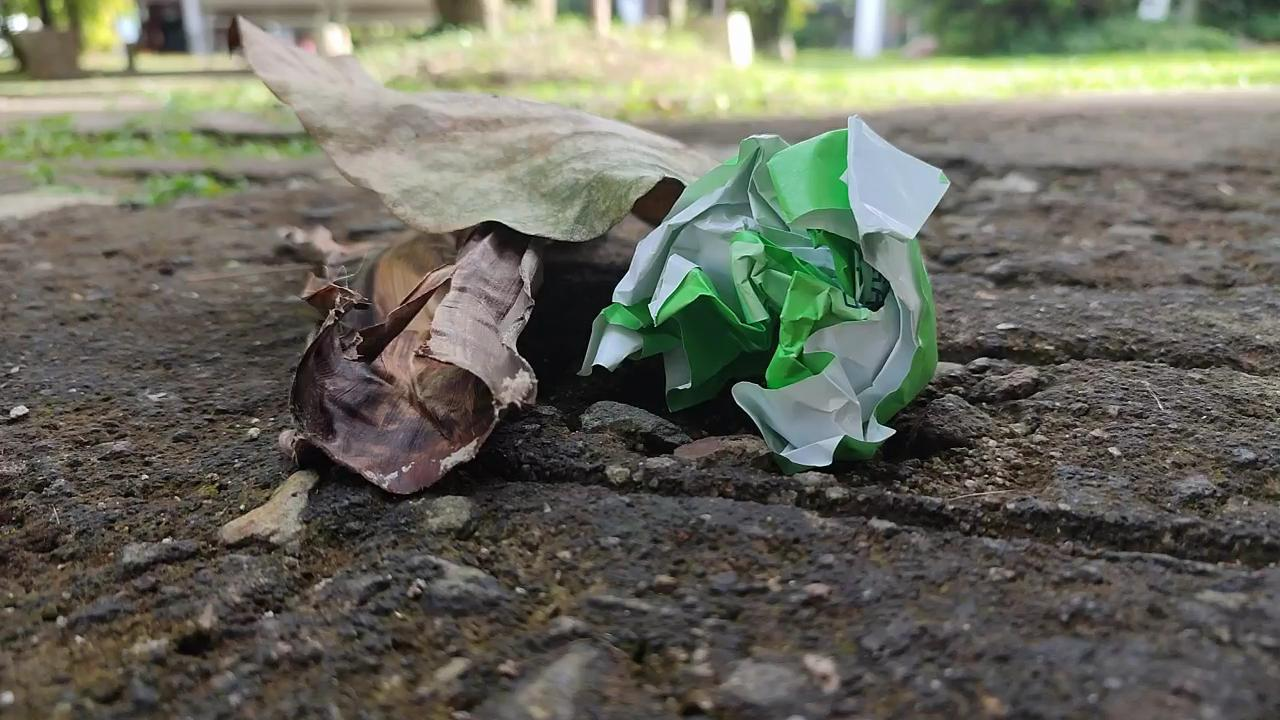Paper: (559, 100, 964, 496)
